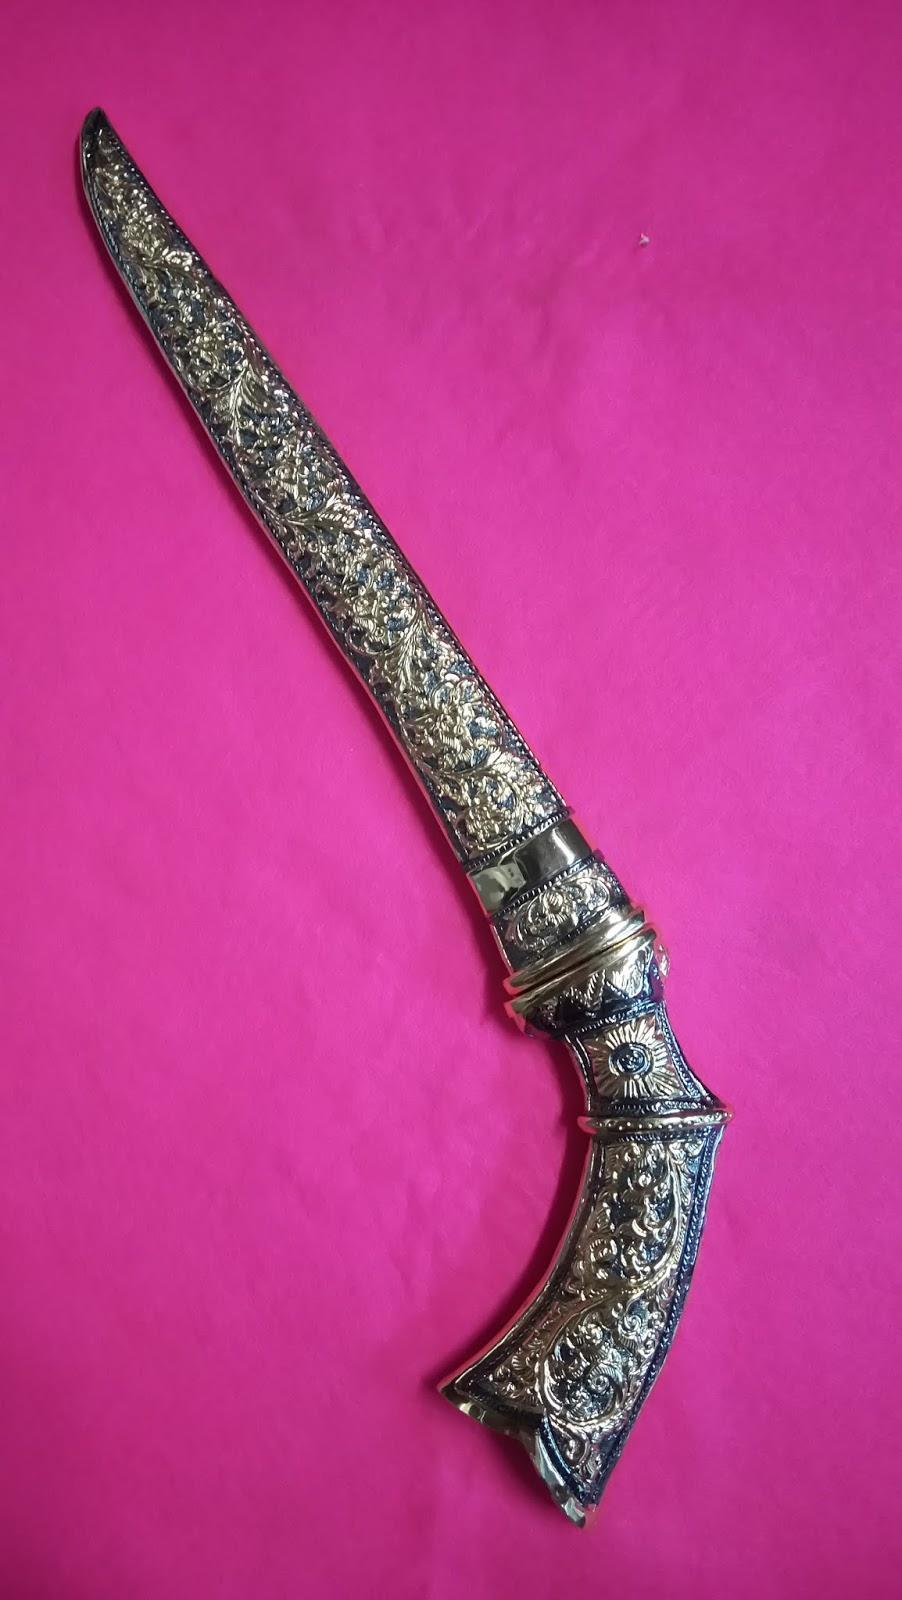facao: (80, 110, 727, 1524)
